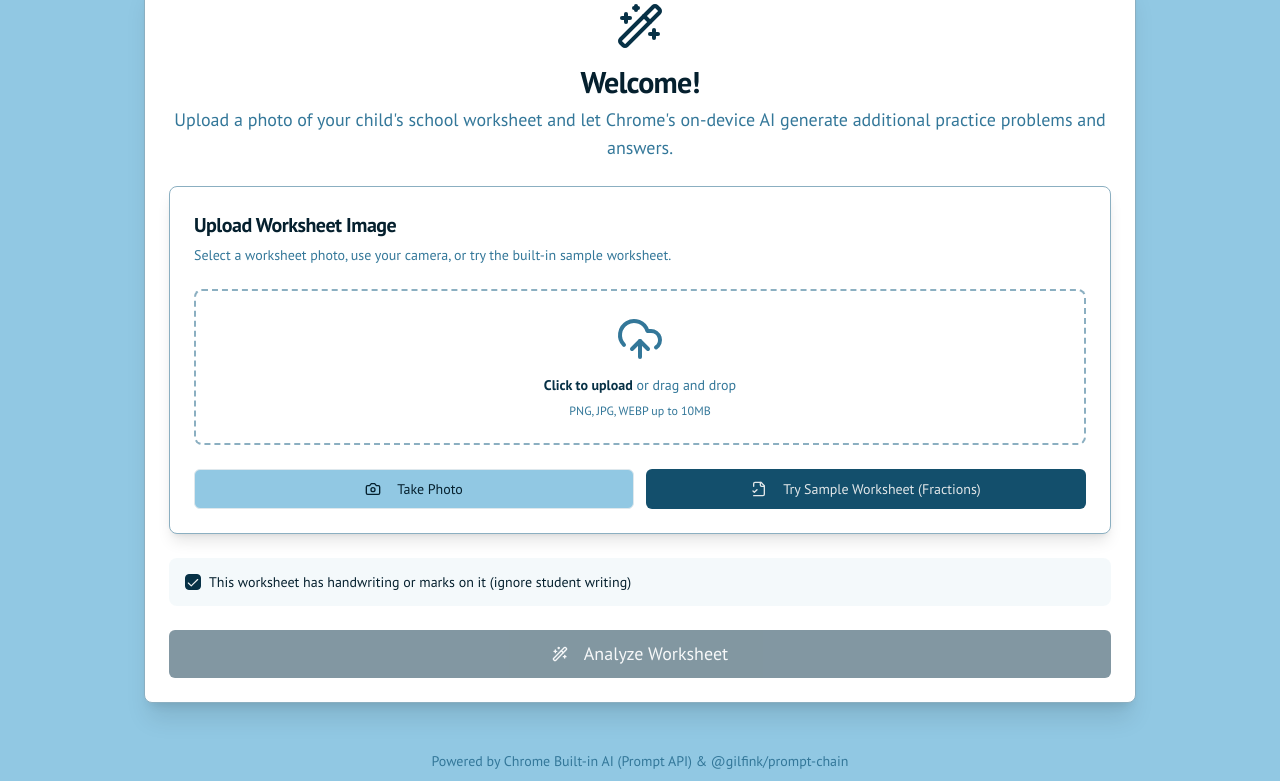
Test: School Worksheet Generator UI Flow (src/components/__tests__/App.test.tsx) › supports customizing problem generation and displaying a shuffled Answer Bank
The image size is (1280, 781).
Click the button with aria-label "load sample fractions worksheet".
click(866, 489)  # box [646, 469, 1086, 509]
(page scrolled)
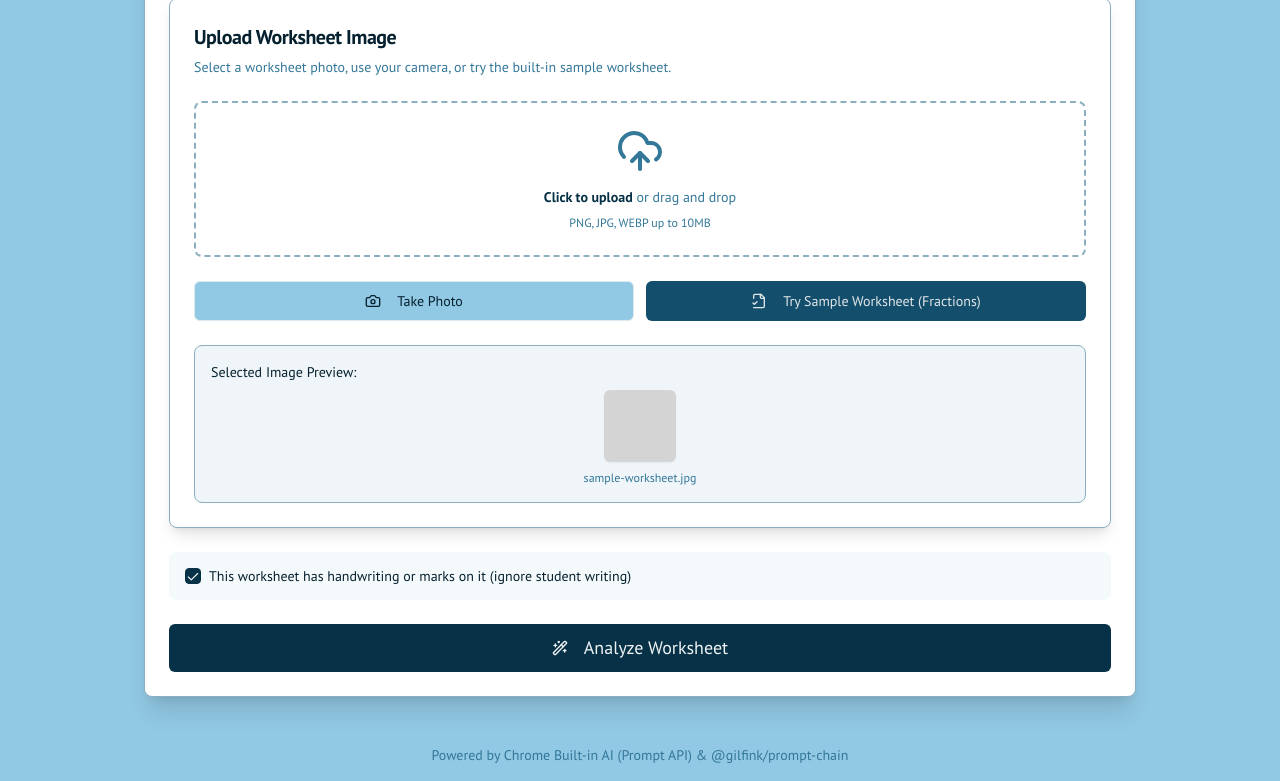
Expected: the button "Analyze Worksheet" is enabled
Click the button "Analyze Worksheet".
click(640, 648)  # box [169, 624, 1111, 672]
(page scrolled)
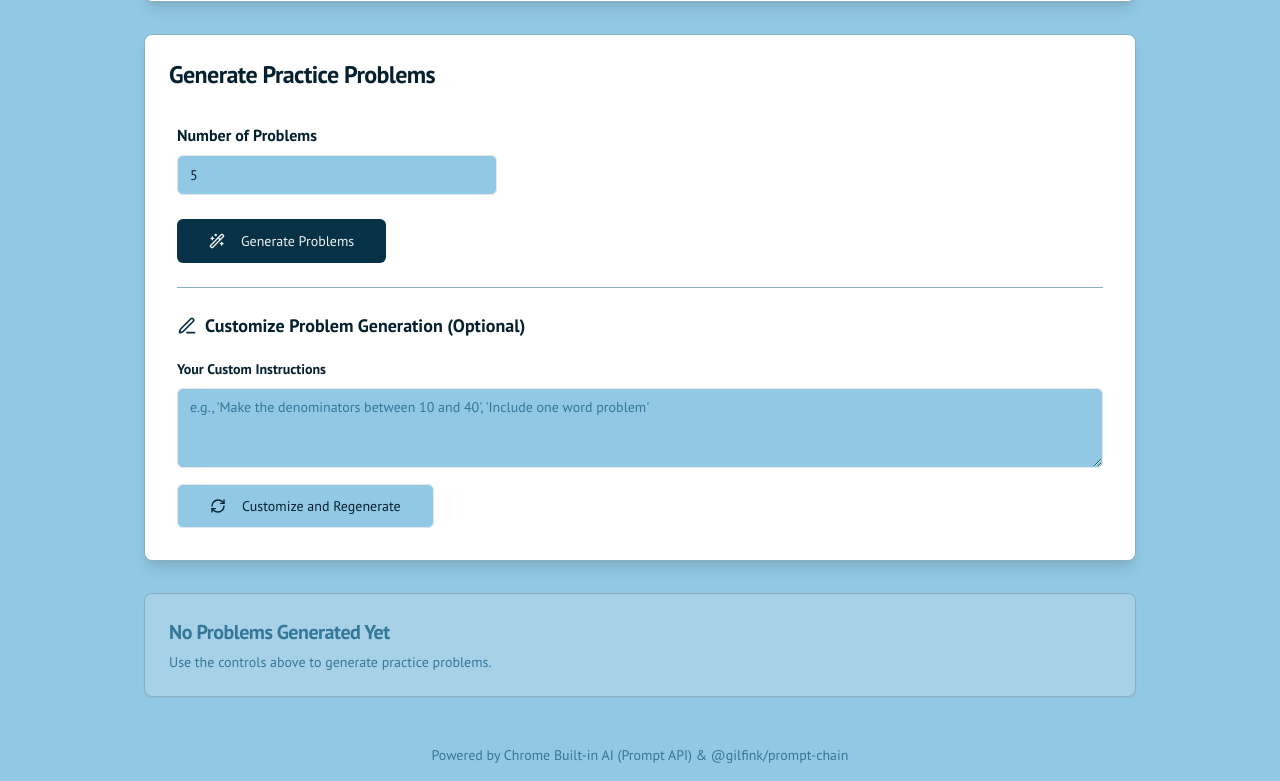
Type "Include harder denominators" into the text box labelled "Your Custom Instructions".
click(640, 428); type("Include harder denominators")  # box [177, 388, 1103, 468]
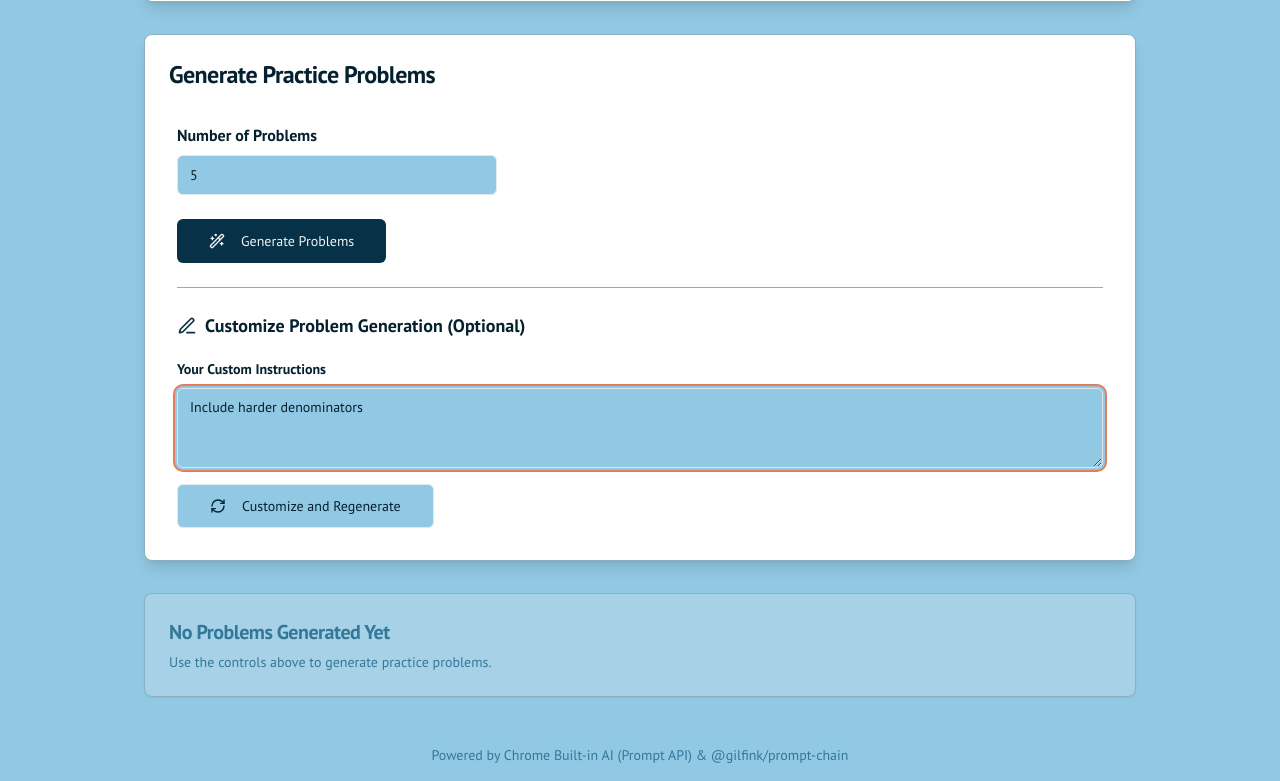
Click the button "Customize and Regenerate".
click(305, 506)  # box [177, 484, 434, 528]
(page scrolled)
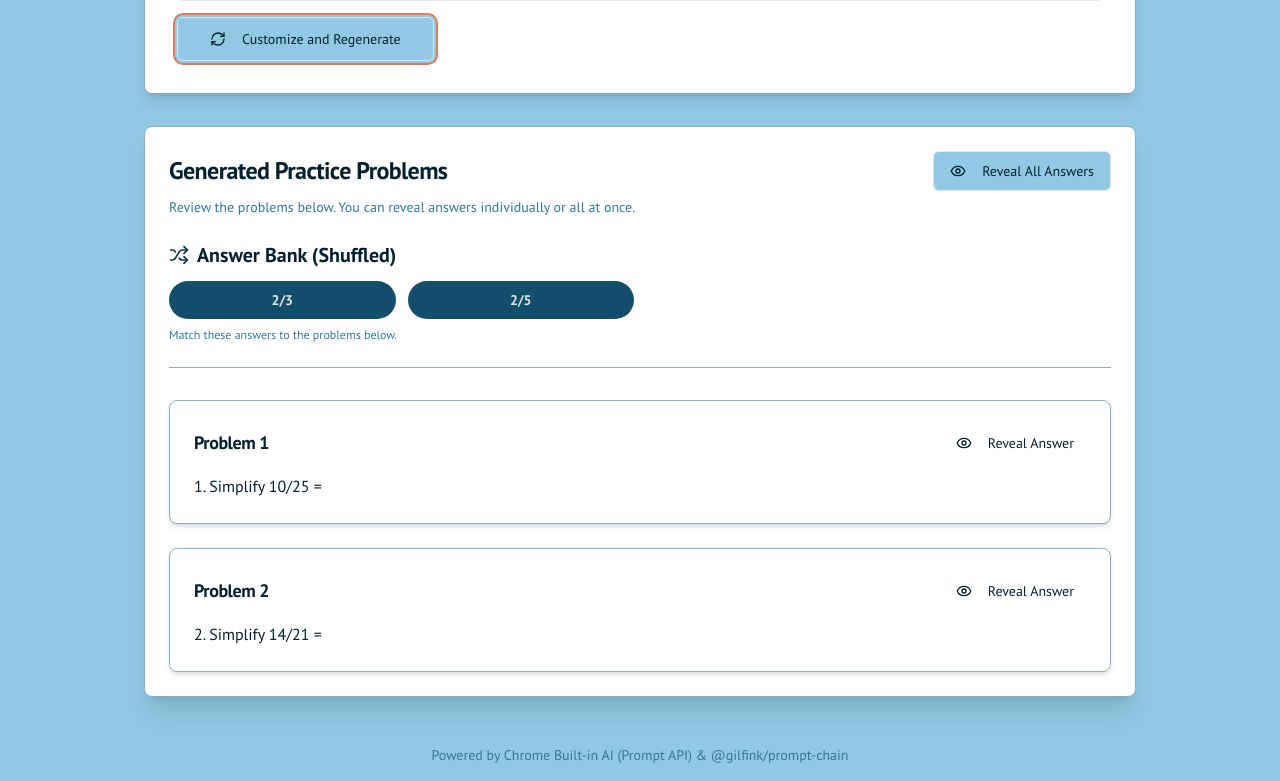
Expected: the heading "Answer Bank (Shuffled)" is shown, [169, 242, 396, 268]
Expected: the text "1. Simplify 10/25 =" is shown, [194, 476, 322, 496]
Expected: the text "2. Simplify 14/21 =" is shown, [194, 624, 322, 644]
